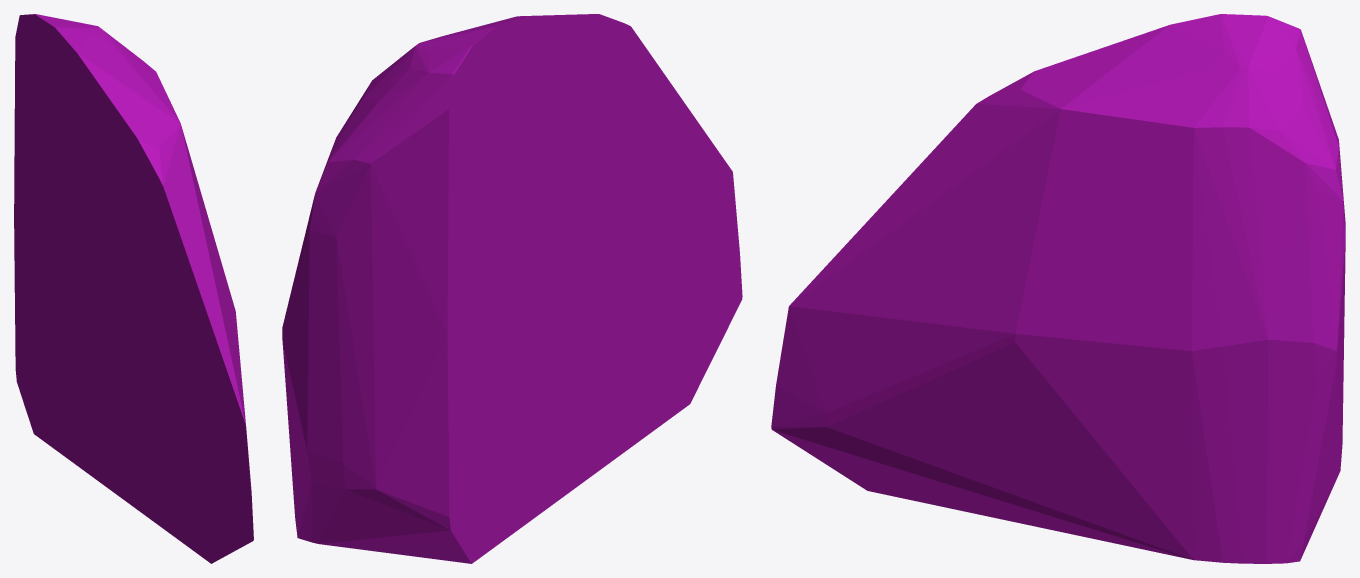
3 renders of one model, left to right at view 1: azimuth 30°, elevation 25°; view 2: azimuth 150°, elevation 25°; view 3: azimuth 270°, elevation 25°, orthographic. The views are drawn at different scales.
Bounding box in the file's own units: 0.00644 × 0.0196 × 0.0214.
